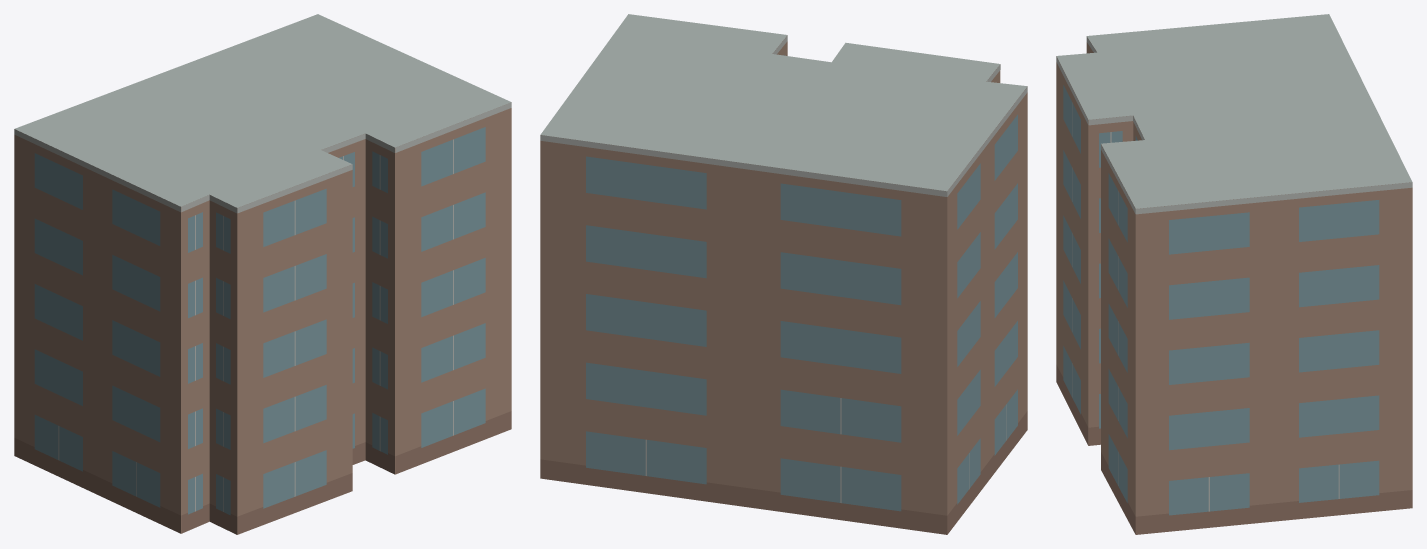
The model's file is survey-upis-32869544.glb.
3 views of the same model, side by side, from view 1: azimuth 30°, elevation 25°; view 2: azimuth 150°, elevation 25°; view 3: azimuth 270°, elevation 25° (orthographic). The views are drawn at different scales.
Visible parts, largest first — view 1: survey-upis-32869544.tmp; view 2: survey-upis-32869544.tmp; view 3: survey-upis-32869544.tmp.
Boxes of the visible parts, box(x1,y1,x2,y2) form: survey-upis-32869544.tmp: box(14, 14, 511, 534); survey-upis-32869544.tmp: box(540, 14, 1027, 534); survey-upis-32869544.tmp: box(1056, 14, 1412, 534).
Size of the model in its own units: 18.34 by 14.3 by 14.17.
